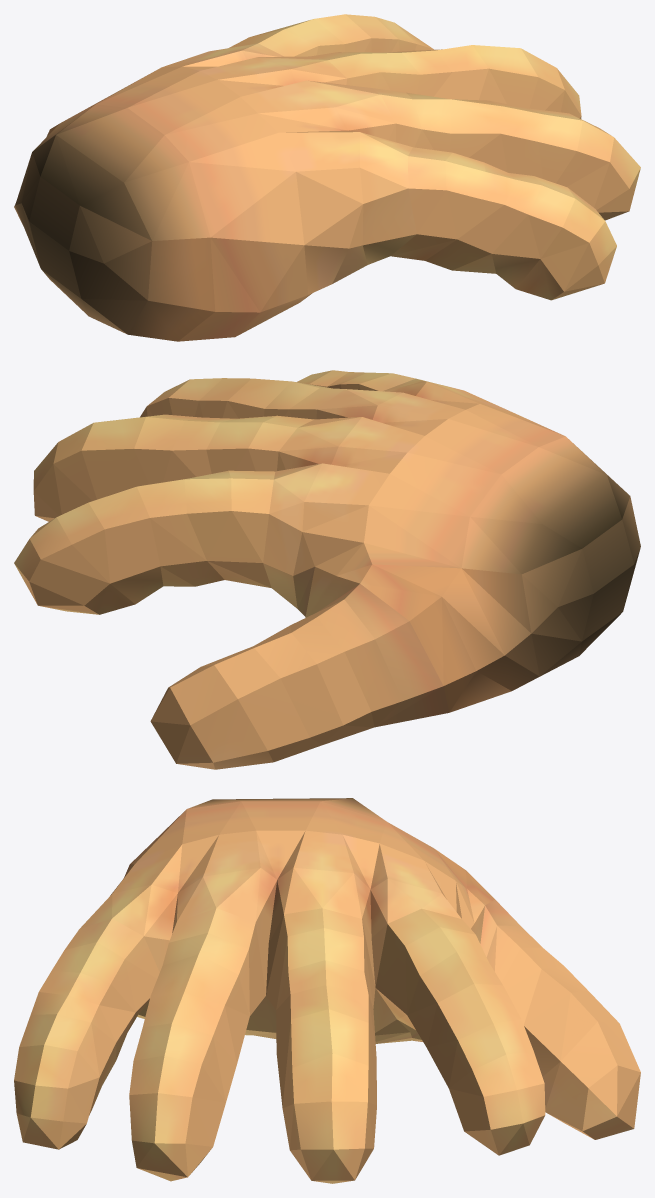
Rendered from right hand 2.obj.
The picture shows the model from 3 angles, top to bottom: view 1: azimuth 30°, elevation 25°; view 2: azimuth 150°, elevation 25°; view 3: azimuth 270°, elevation 25°; orthographic projection. The views are drawn at different scales.
Parts seen in each view (by area): view 1: n0b0_n0b0.001; view 2: n0b0_n0b0.001; view 3: n0b0_n0b0.001.
Boxes of the visible parts, x1=… form: n0b0_n0b0.001: x1=14, y1=14, x2=640, y2=341; n0b0_n0b0.001: x1=14, y1=370, x2=640, y2=769; n0b0_n0b0.001: x1=14, y1=798, x2=640, y2=1183.
Size of the model in its own units: 8.08 by 3.36 by 7.45.
Materials: 1 (1 with a texture image).
